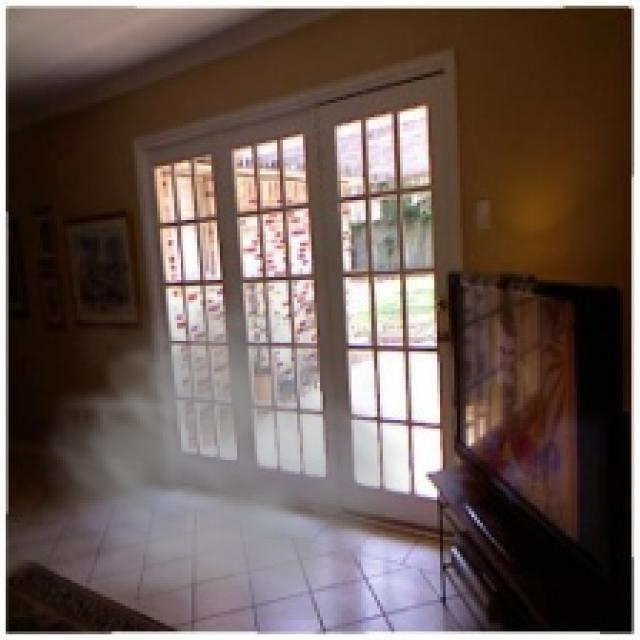smoke: (28, 263, 423, 620)
